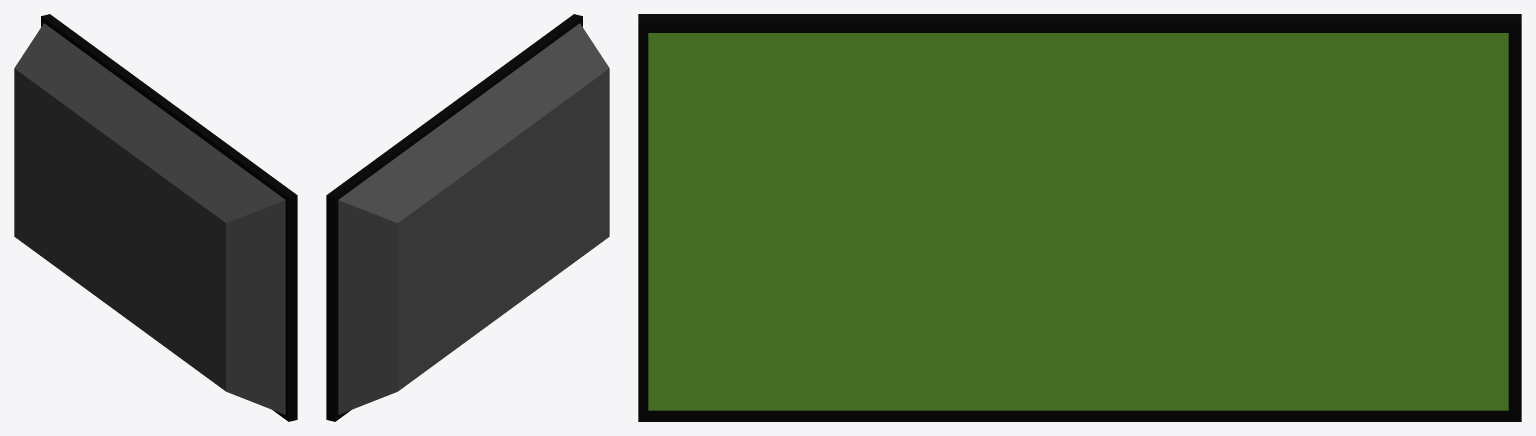
The model's file is telek.obj.
The picture shows the model from 3 angles, left to right: view 1: azimuth 30°, elevation 25°; view 2: azimuth 150°, elevation 25°; view 3: azimuth 270°, elevation 25°; orthographic projection. The views are drawn at different scales.
Parts seen in each view (by area): view 1: Grey_grey, Black_black; view 2: Grey_grey, Black_black; view 3: Grey_grey, Black_black.
Part boxes in pixels (<box>): Grey_grey: <box>14,14,297,419</box>; Black_black: <box>41,14,297,421</box>; Grey_grey: <box>326,14,609,419</box>; Black_black: <box>326,14,582,421</box>; Grey_grey: <box>638,21,1521,421</box>; Black_black: <box>638,14,1521,21</box>.
Size of the model in its own units: 1 by 4 by 8.
